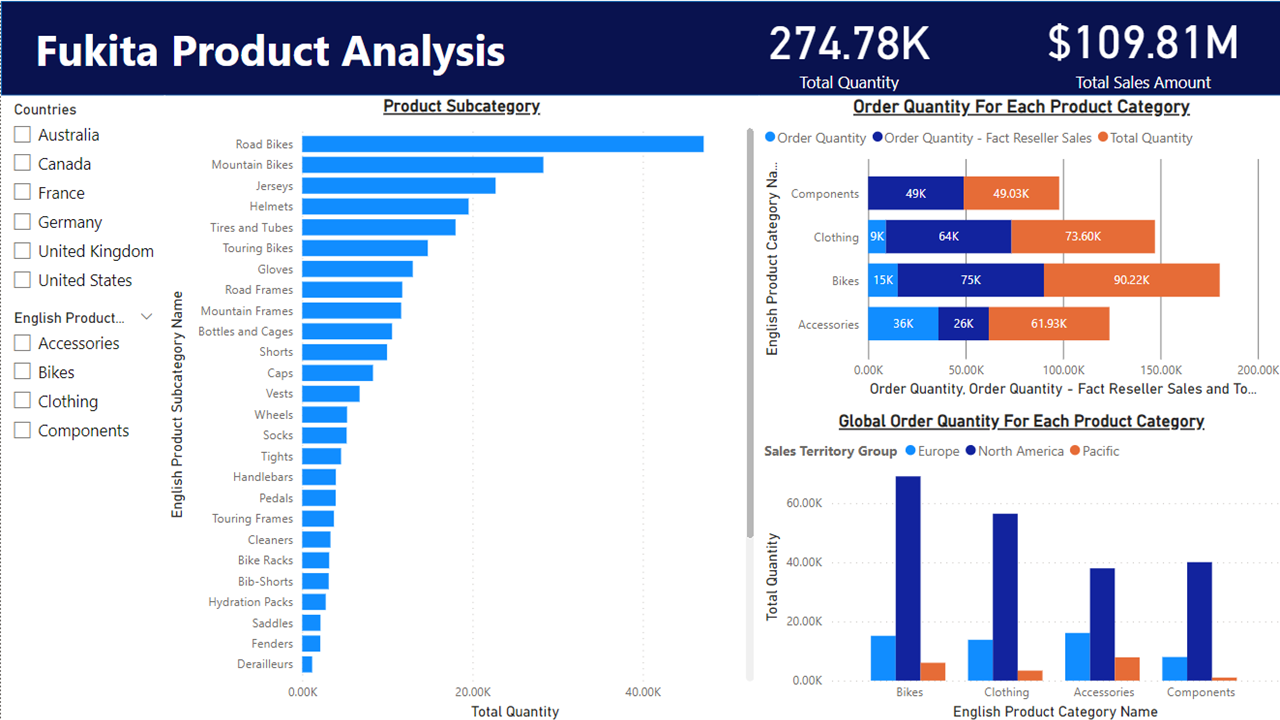

What the dashboard file says about the page in this screenshot:
{"tool":"powerbi","page":{"name":"Dashboard 2 Product Analysis","canvas":[1280,720],"ordinal":1},"visuals":[{"type":"shape","box":[0,0,1280,94.3],"z":0},{"type":"treemap","title":"Product Subcategory Recommendations","fields":{"Group":["Dim Product.English Product Subcategory Name"],"Values":["Measures.Total Quantity"]},"box":[201.2,95,555,312.5],"z":1000},{"type":"slicer","fields":{"Values":["Dim Product.English Product Category Name"]},"box":[0,95.6,201.1,146.7],"z":2000},{"type":"lineClusteredColumnComboChart","title":"Global Order Quantity For Each Product Category","fields":{"Category":["Dim Product.English Product Category Name"],"Y":["Measures.Total Quantity"],"Series":["Dim Sales Territory.Sales Territory Group"]},"box":[756.2,407.5,523.8,312.5],"z":3000},{"type":"barChart","title":"Order Quantity For Each Product Category","fields":{"Category":["Dim Product.English Product Category Name"],"Y":["Measures.Total Quantity"]},"box":[766.2,95,513.8,303.8],"z":4000},{"type":"textbox","box":[28.9,13.3,493.3,71.2],"z":5000},{"type":"card","fields":{"Values":["Measures.Total Quantity"]},"box":[717.1,0,256.6,94.5],"z":6000},{"type":"card","fields":{"Values":["Measures.Total Sales Amount"]},"box":[1028.6,0,221.1,94.1],"z":7000},{"type":"multiRowCard","fields":{"Values":["Dim Customer.English Occupation","Measures.Total Quantity"]},"box":[1.2,242.5,201.2,477.5],"z":8000},{"type":"donutChart","title":"Product Performance Metrics: Profit, Sales, and Cost Comparison","fields":{"Y":["Measures.Total Sales Amount","Measures.Total Cost of Products","Measures.Total Profit"]},"box":[202.6,407.6,553.6,312.4],"z":9000}]}

Visuals, with their boxes in screenshot pixels (x1, y1, x2, y2), scaled from the page's 1280x720 canvas onto the 1280x720 screenshot:
shape: region(0, 0, 1279, 94)
"Product Subcategory Recommendations" treemap: region(201, 95, 756, 408)
slicer - Dim Product.English Product Category Name: region(0, 96, 201, 242)
"Global Order Quantity For Each Product Category" lineClusteredColumnComboChart: region(756, 408, 1279, 719)
"Order Quantity For Each Product Category" barChart: region(766, 95, 1279, 399)
textbox: region(29, 13, 522, 84)
card - Measures.Total Quantity: region(717, 0, 974, 94)
card - Measures.Total Sales Amount: region(1029, 0, 1250, 94)
multiRowCard - Dim Customer.English Occupation x Measures.Total Quantity: region(1, 242, 202, 719)
"Product Performance Metrics: Profit, Sales, and Cost Comparison" donutChart: region(203, 408, 756, 719)
